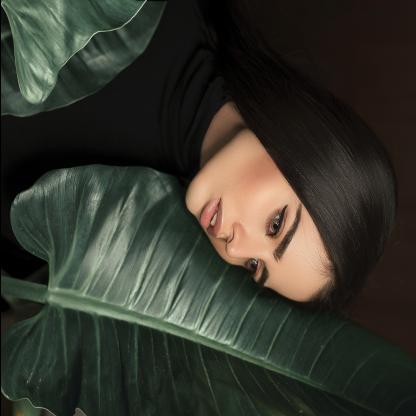Eye: (264, 205, 288, 239), (242, 257, 260, 277)
Mouth: (198, 197, 223, 238)
Nose: (224, 221, 265, 260)
